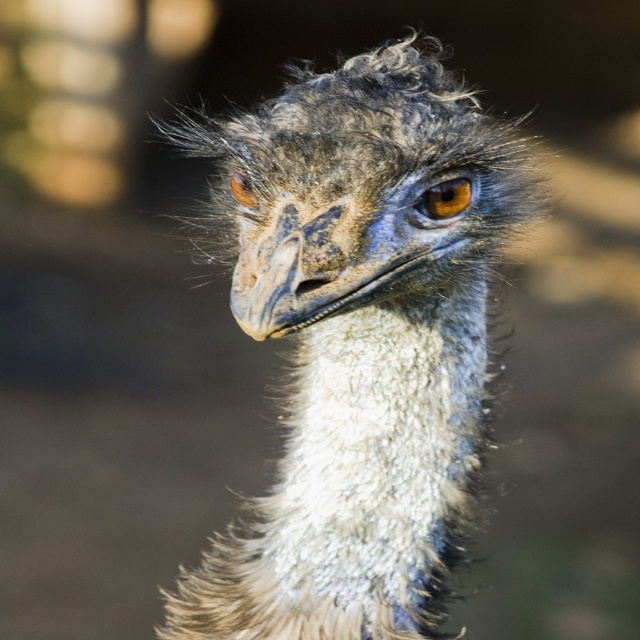Ostrich: (155, 33, 562, 640)
